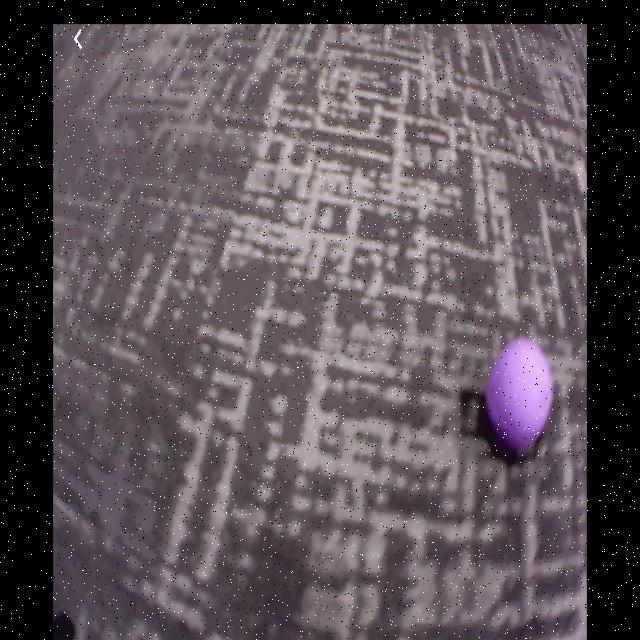ball: (488, 338, 554, 449)
